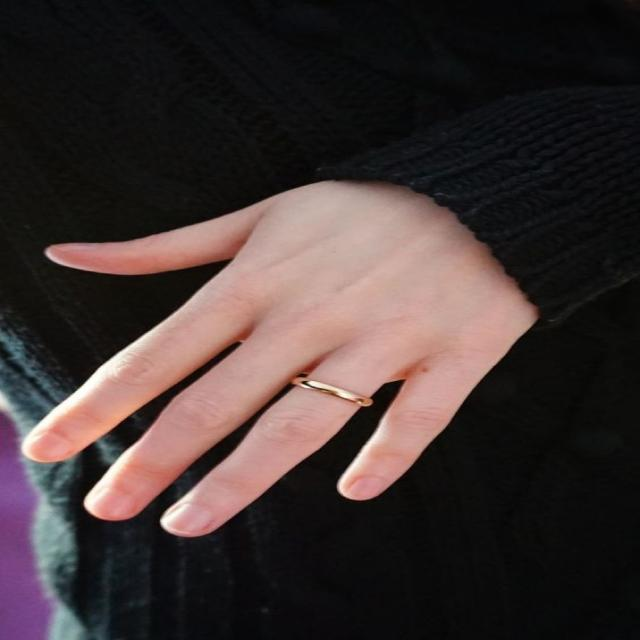Fingernail: (165, 502, 210, 536), (89, 490, 136, 519), (27, 432, 69, 462), (345, 478, 383, 502)
